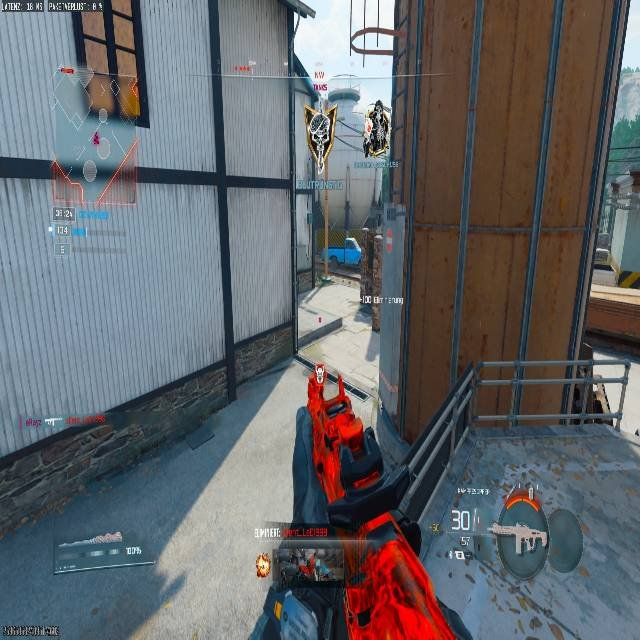head: (375, 99, 383, 109)
player: (301, 66, 338, 167), (363, 100, 390, 156)
